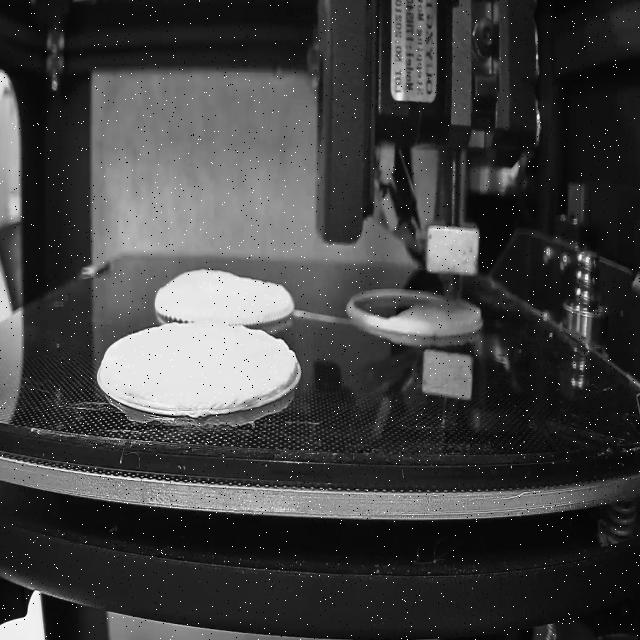over_extrusion: (276, 347, 299, 388)
